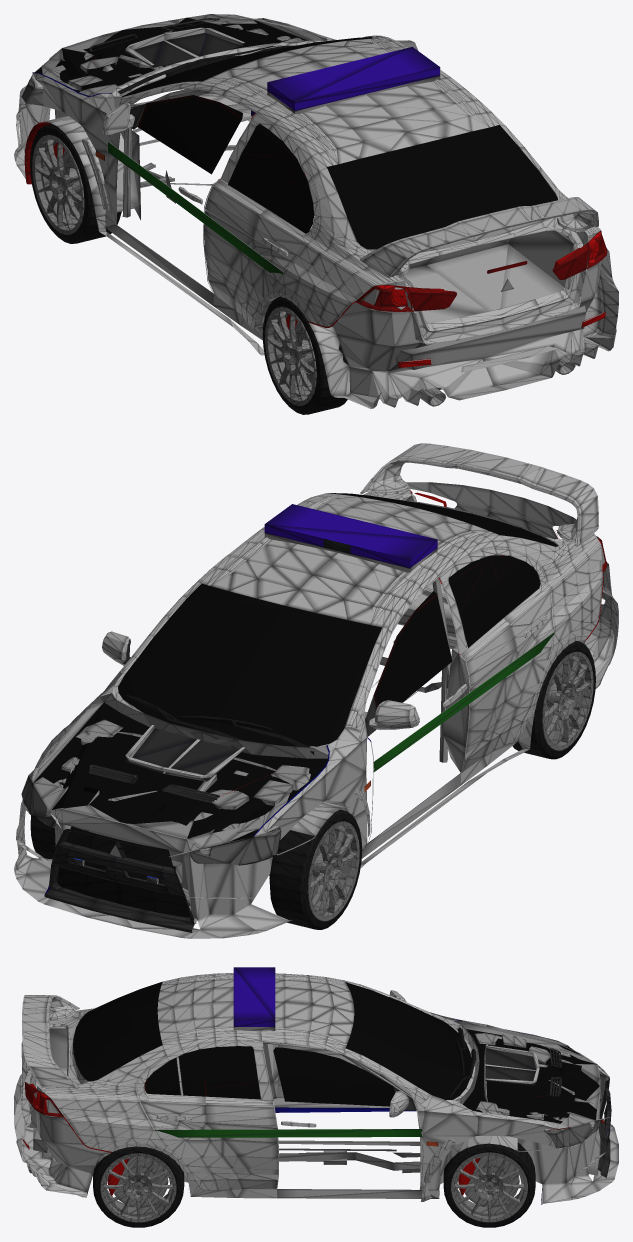
The picture shows the model from 3 angles, top to bottom: view 1: azimuth 30°, elevation 25°; view 2: azimuth 150°, elevation 25°; view 3: azimuth 270°, elevation 25°; orthographic projection. The views are drawn at different scales.
Visible parts, largest first — view 1: world; view 2: world; view 3: world.
Boxes of the visible parts, x1,y1,x2,y2 form: world: (14,14,618,414); world: (14,443,618,938); world: (14,967,618,1227).
Size of the model in its own units: 0.8736 by 0.6523 by 1.93.
Materials: 1 (1 with a texture image).
